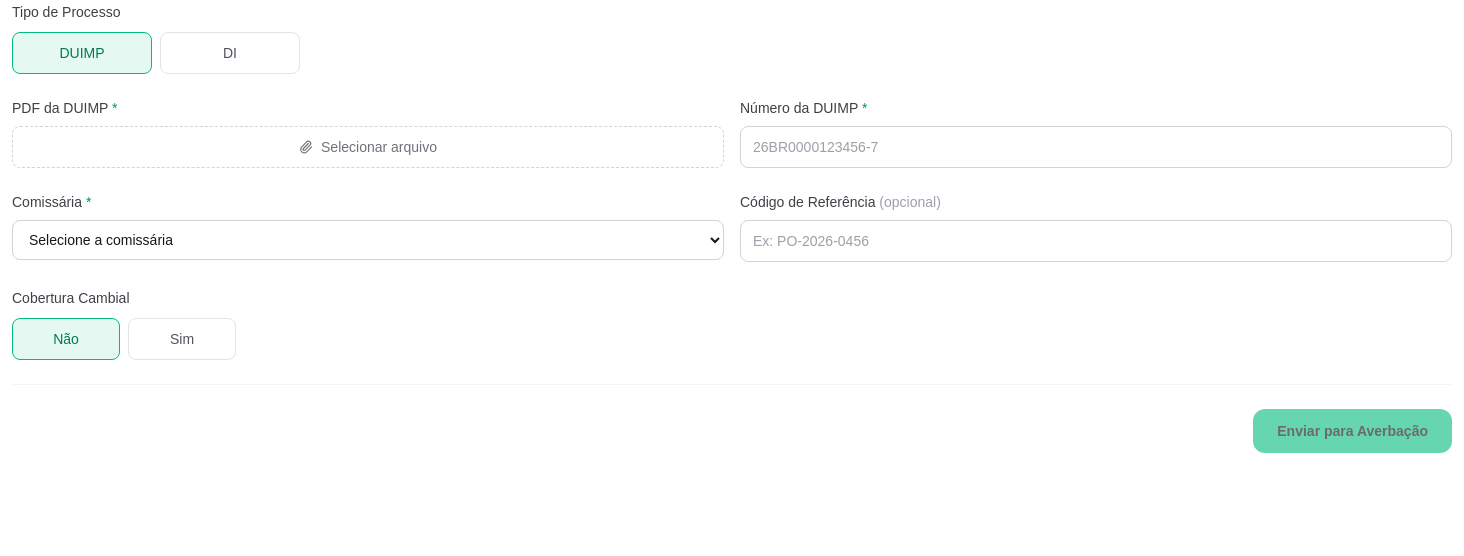
Test case: AverbacaoForm › volta a mostrar os campos da DUIMP ao selecionar DUIMP novamente
Click the radio button labelled "DI": (230, 53) [160,32,300,74]
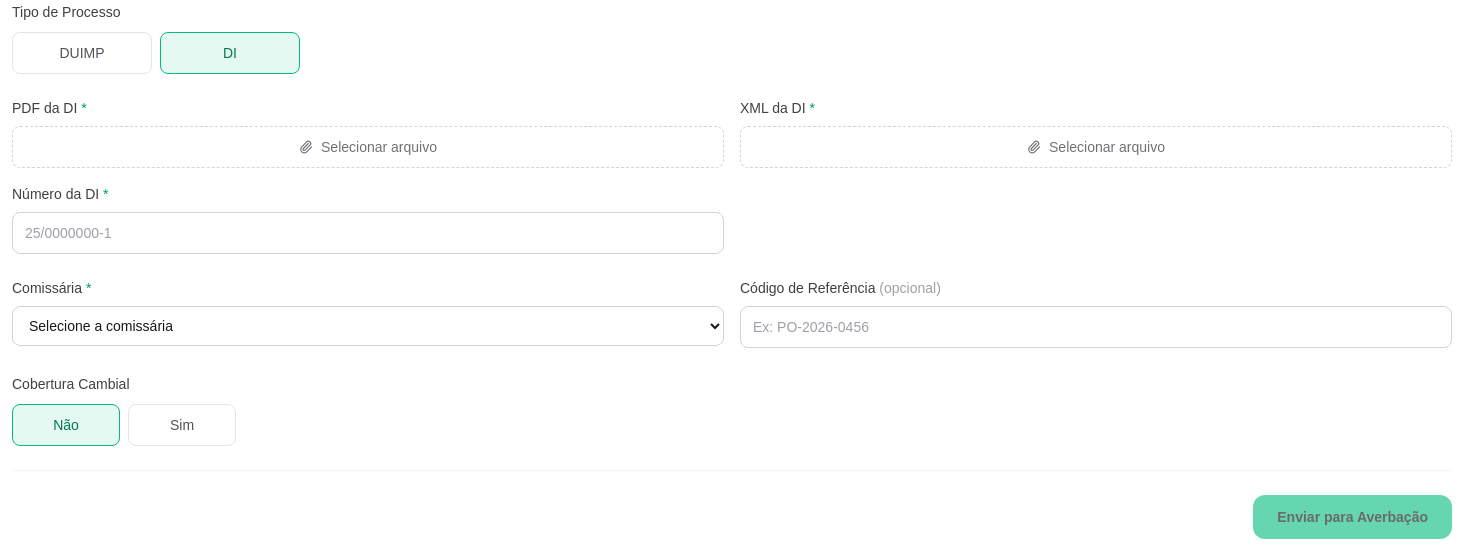
Click the radio button labelled "DUIMP": (82, 53) [12,32,152,74]
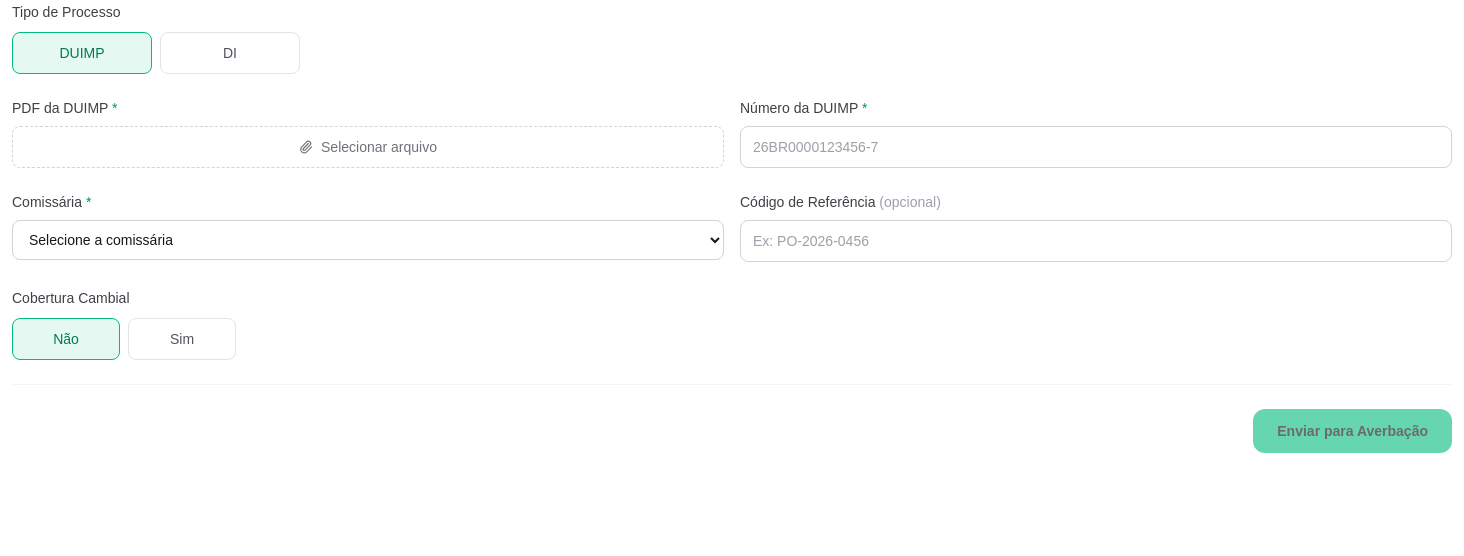
expect the file field "PDF da DUIMP *" is shown: met, box [12,100,118,116]
expect the file field "PDF da DI" is gone: met
